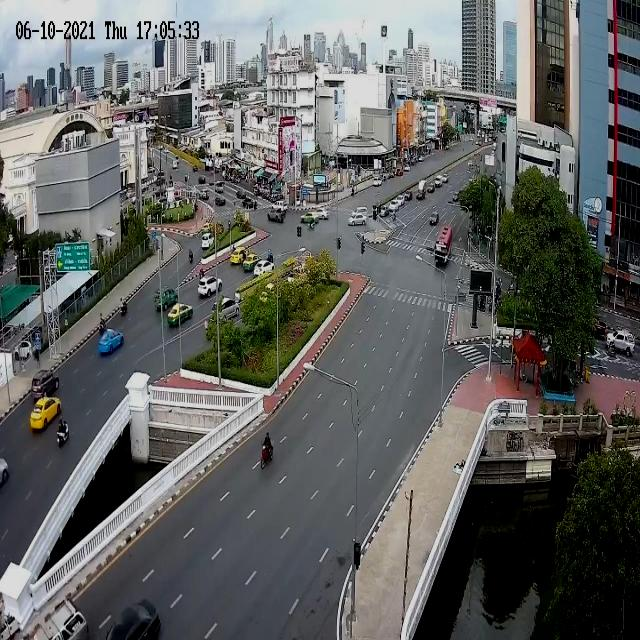Car: (109, 593, 167, 640), (29, 390, 63, 434), (32, 365, 61, 401), (166, 303, 194, 329), (197, 276, 223, 302), (100, 328, 124, 353), (154, 288, 178, 311), (243, 252, 261, 273), (254, 260, 276, 277), (232, 245, 250, 263), (267, 208, 287, 224), (348, 213, 367, 228), (301, 212, 320, 224), (202, 231, 216, 247), (214, 194, 227, 208), (429, 209, 439, 227), (198, 190, 210, 200), (198, 177, 206, 184)
Cycle: (260, 432, 274, 470), (57, 414, 70, 449), (98, 311, 108, 333), (119, 295, 128, 316), (188, 248, 194, 264)
Truck: (434, 223, 454, 269)
